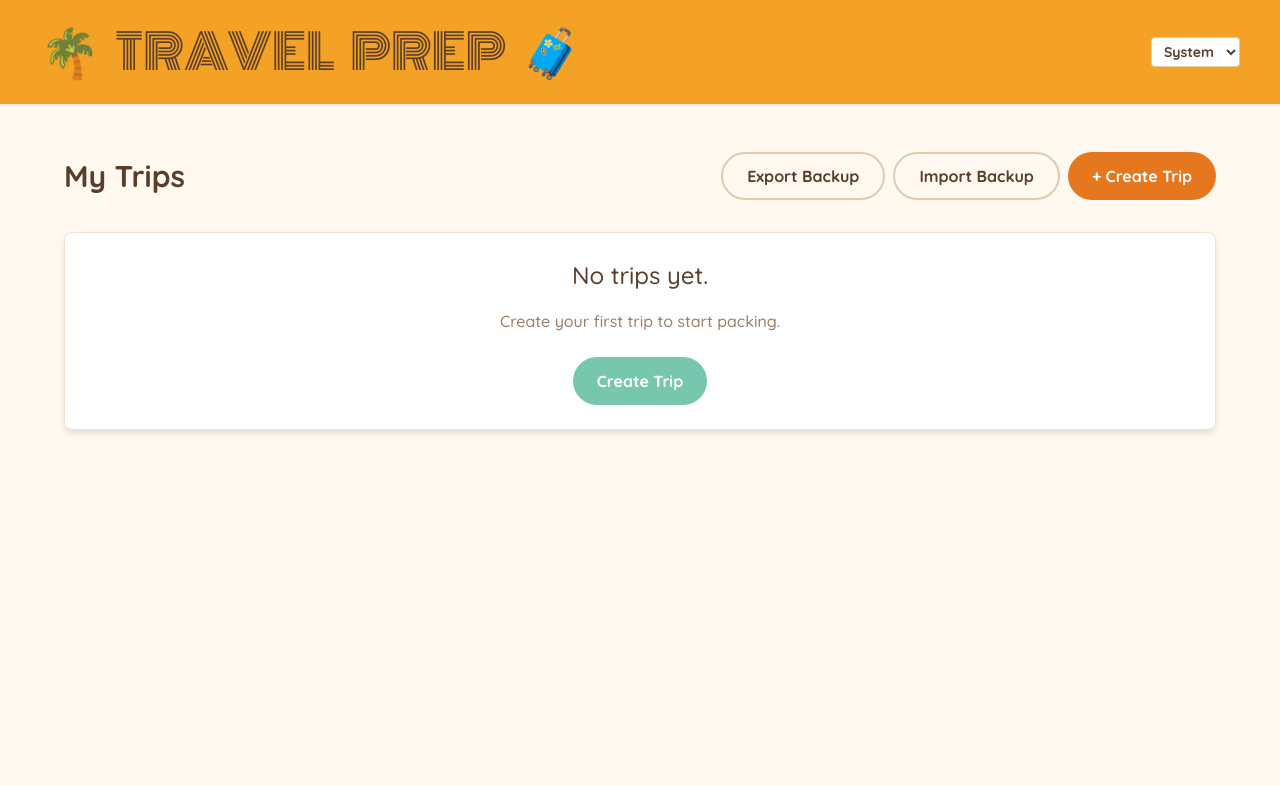
Test: App Integration Tests › rejects invalid quantities
This screenshot has width=1280, height=786.
Click the link "+ Create Trip" at (1142, 176), box [1068, 152, 1216, 200]
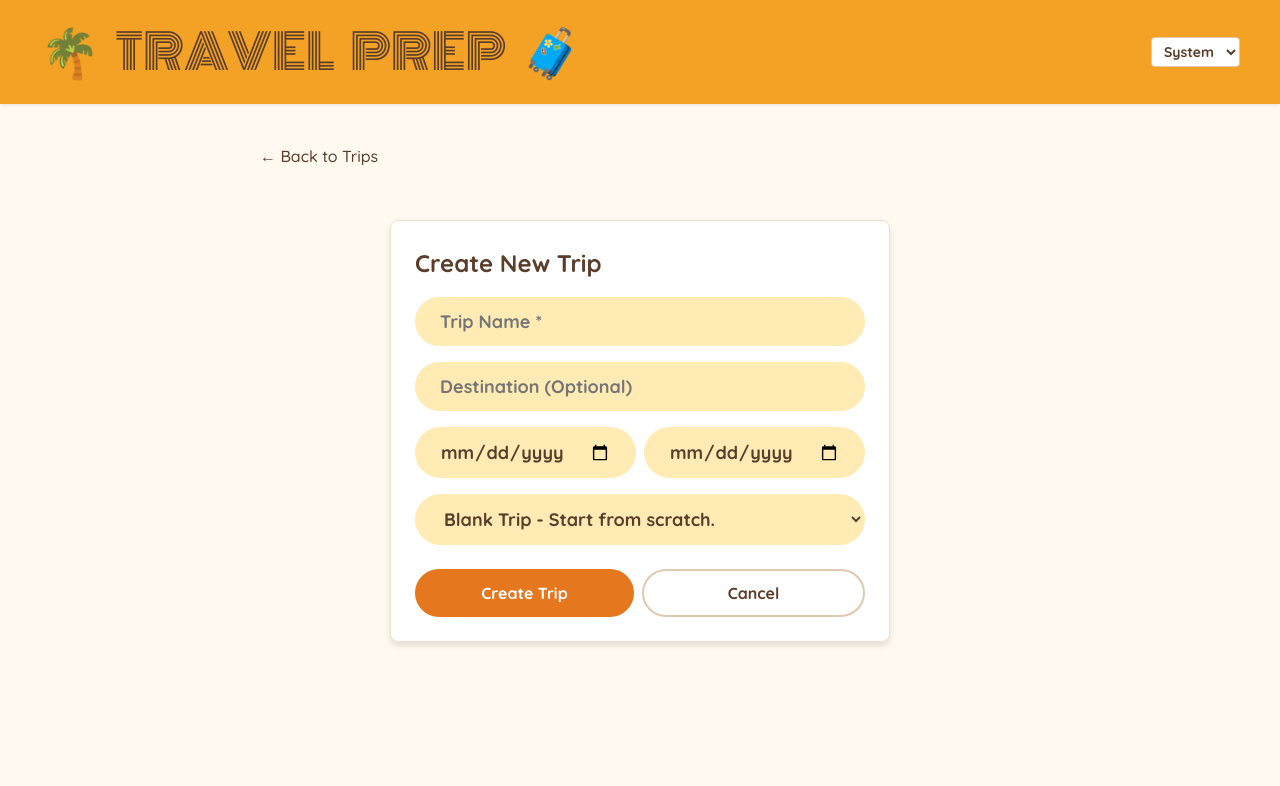
Type "Goa Trip" into the field labelled "Trip Name" at (640, 322), box [415, 297, 865, 346]
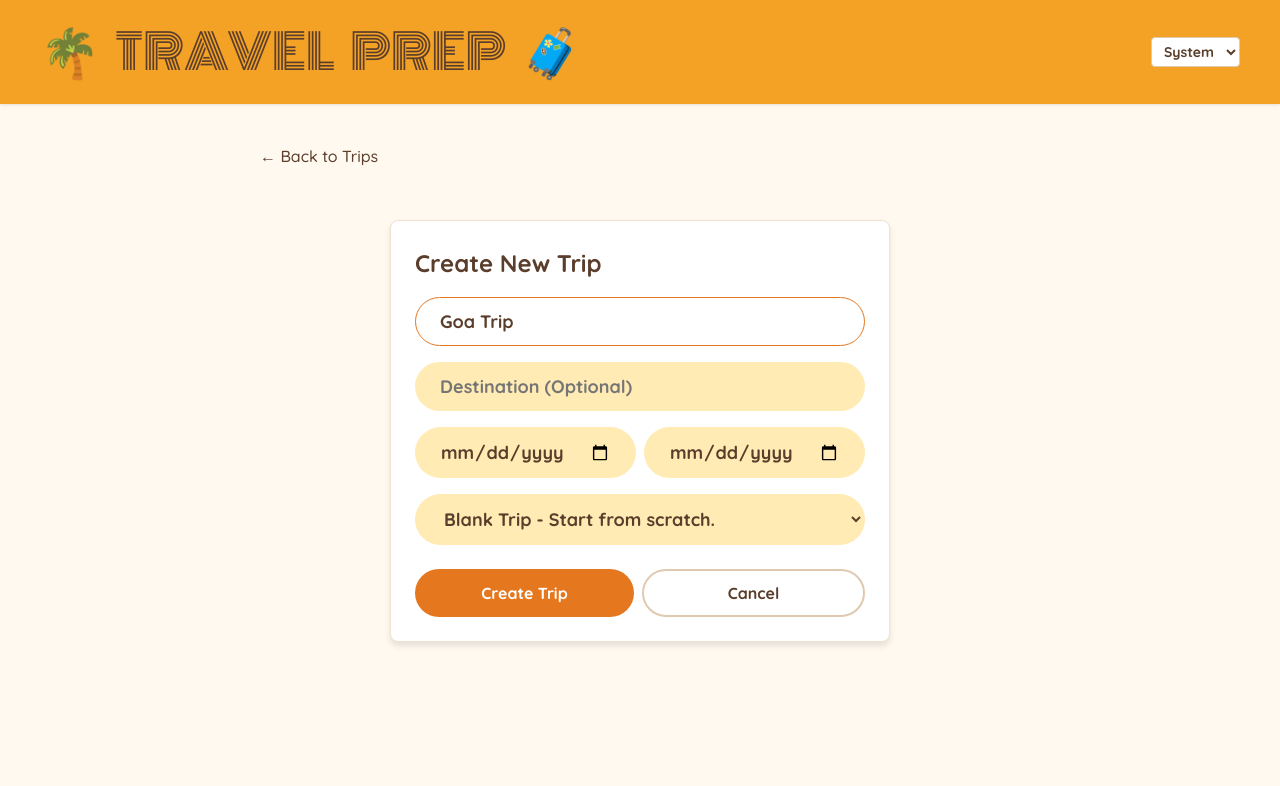
Click the button "Create Trip" at (524, 593), box [415, 569, 634, 617]
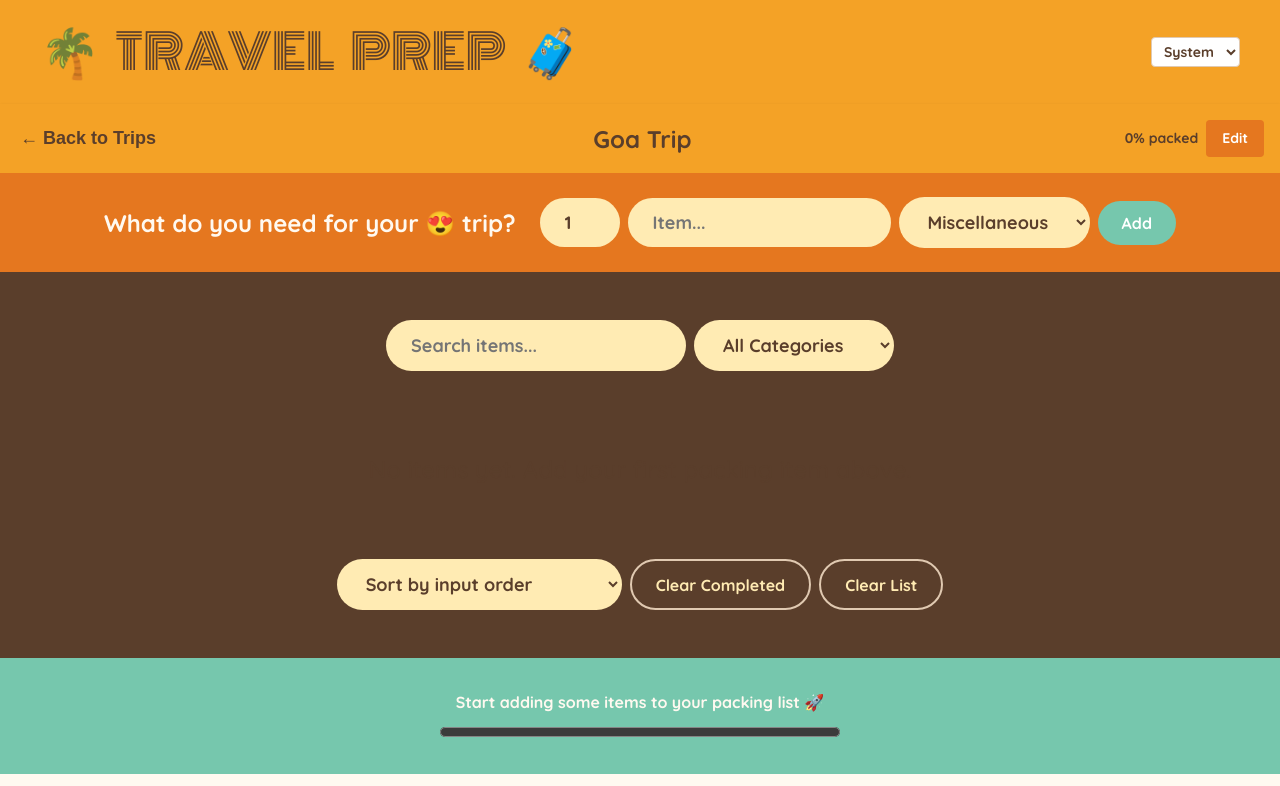
Replace the text in the number field named "Item quantity" with "-5" at (580, 222), box [540, 198, 620, 247]
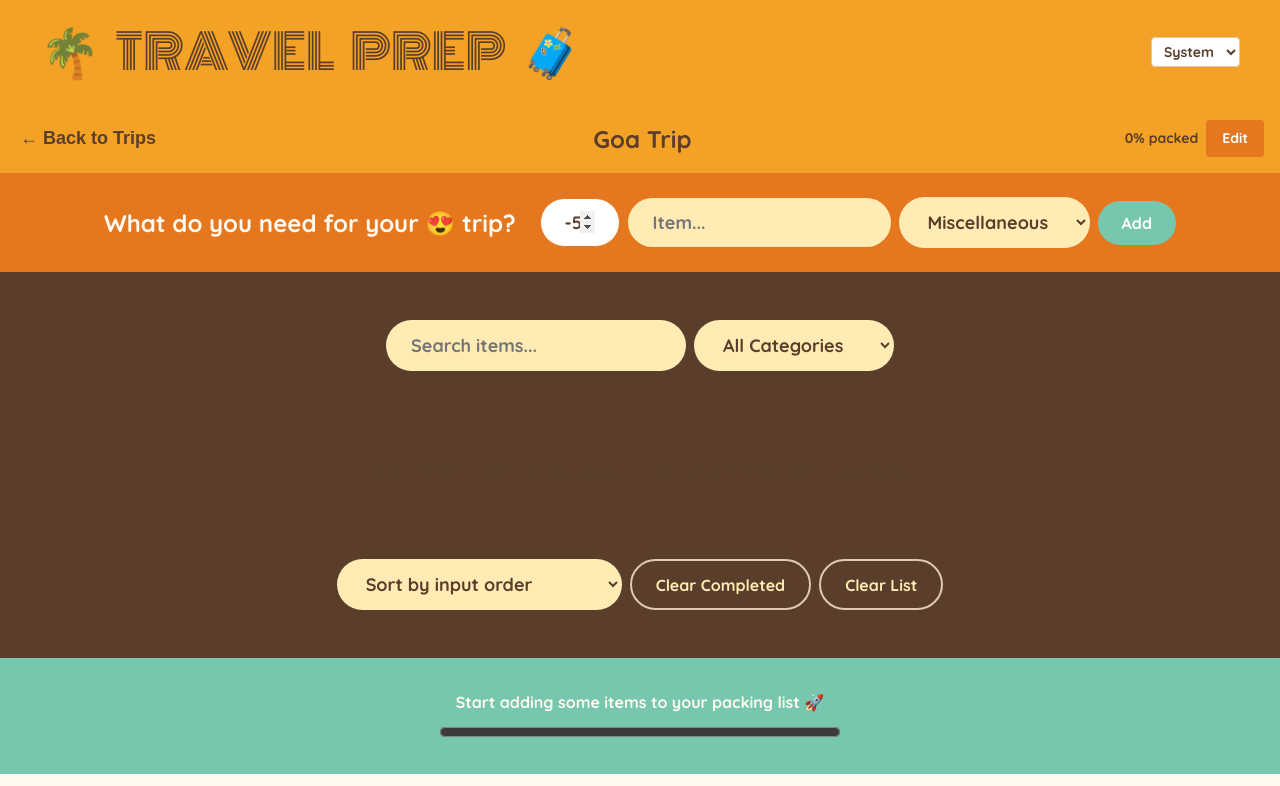
Type "Jacket" into the field with placeholder "Item..." at (759, 222), box [628, 198, 891, 247]
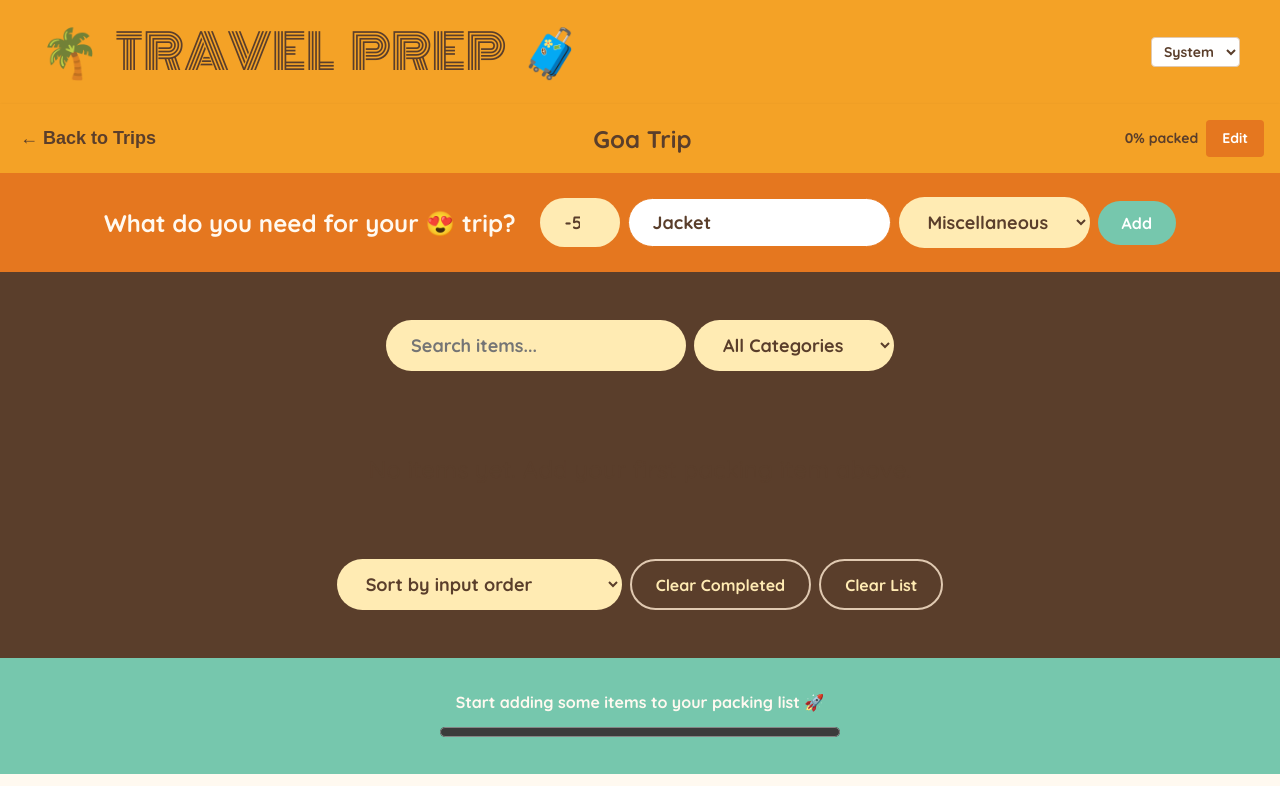
Submit the form "What do you need for your 😍 trip? Add", box [0, 173, 1279, 272]
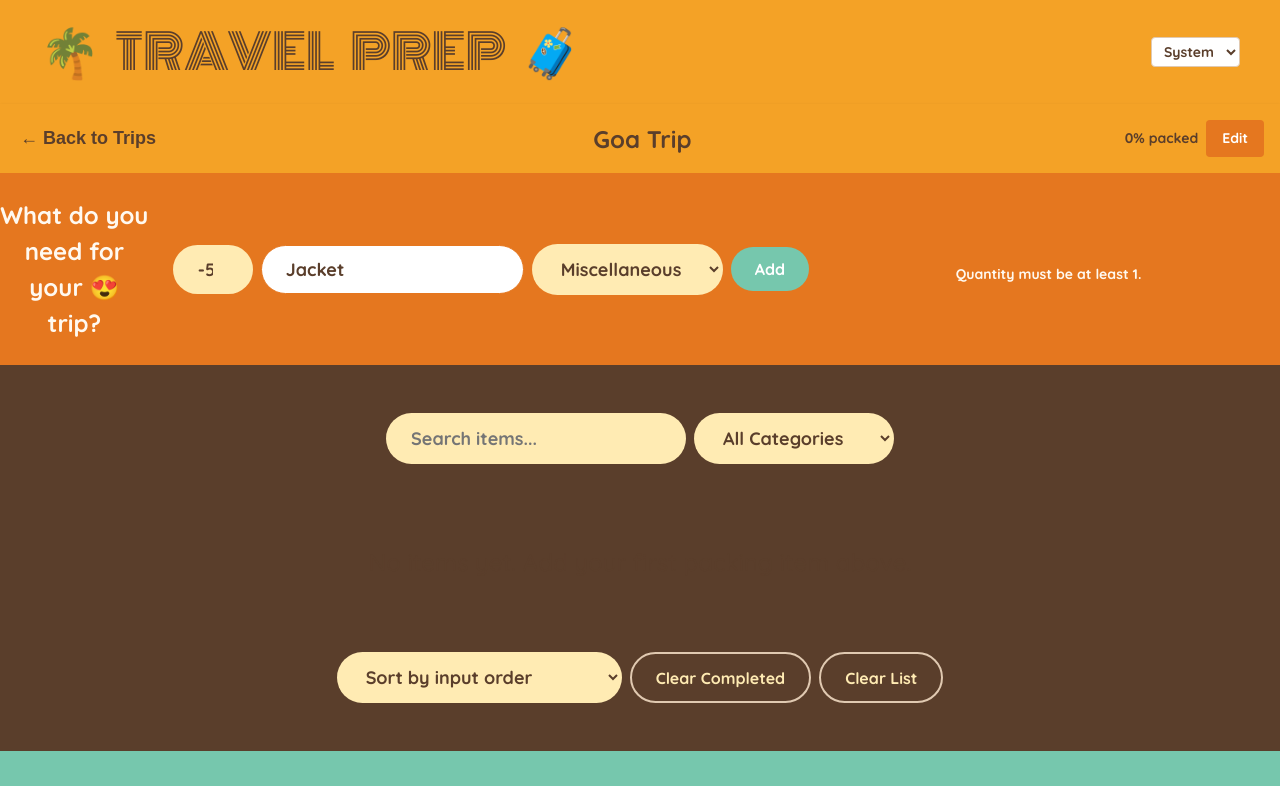
Now the text "Quantity must be at least 1." is shown, box [956, 264, 1142, 282]
